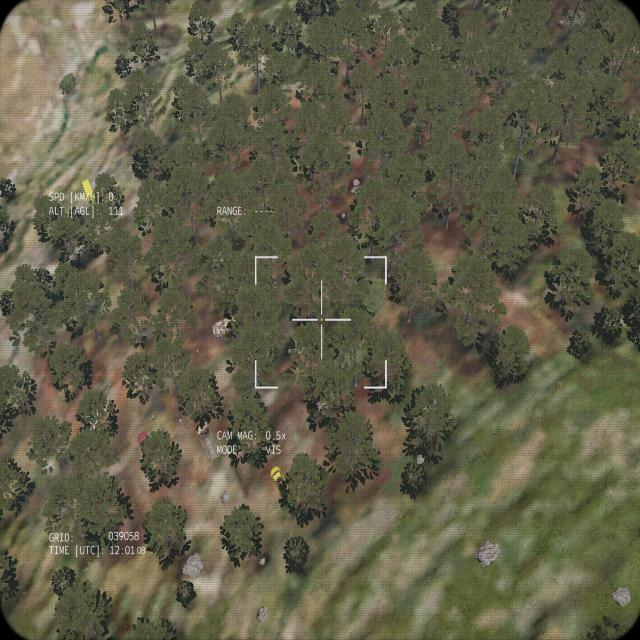apc: (212, 314, 241, 339)
car: (268, 463, 290, 499), (138, 428, 156, 467), (81, 172, 99, 206)
tank: (83, 383, 112, 435)
truck: (196, 419, 221, 464)
